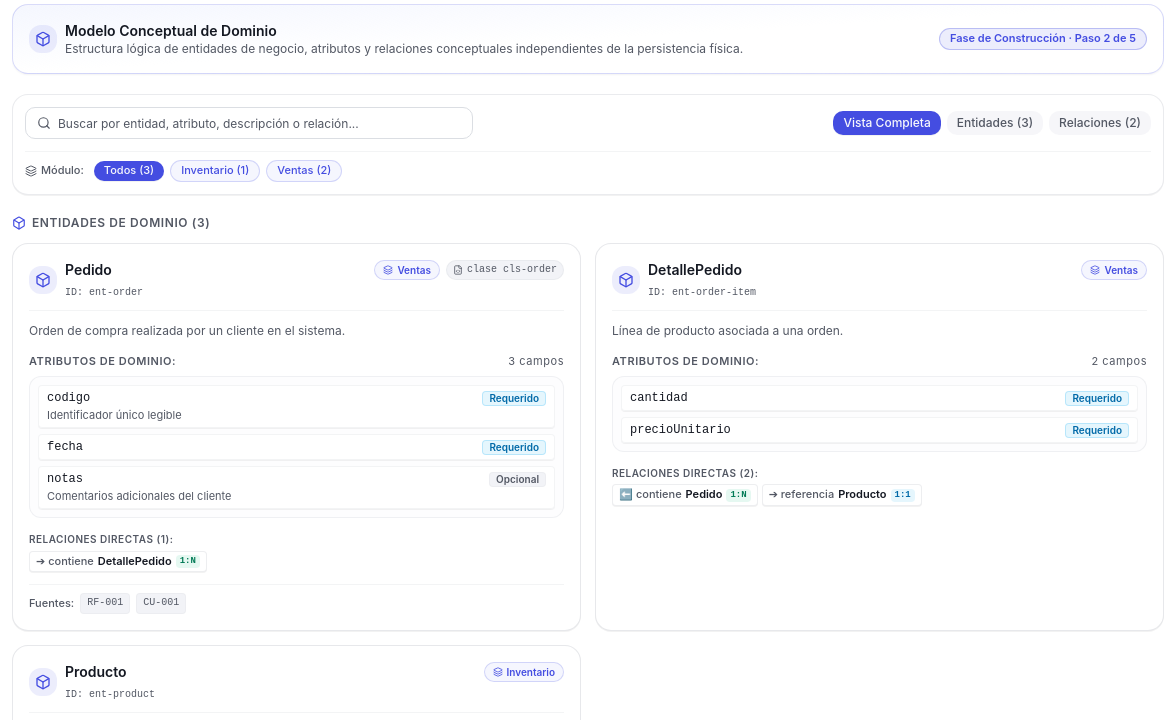
Test: ConceptualModelDetail › filters content in real-time with search input
Type "Producto" into the search field named "Buscar en el modelo conceptual" at x=249, y=123, box [25,107,473,139]
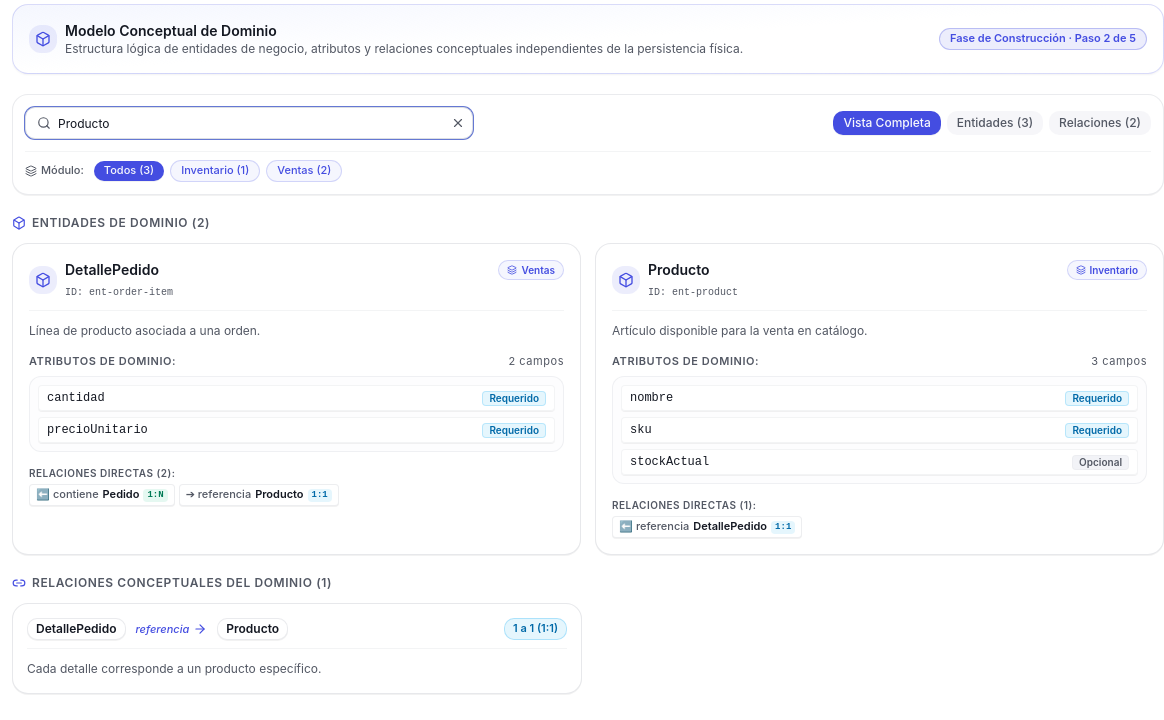
Expected: the heading "Producto" is shown, [648,261,710,278]
Result: the text "Orden de compra realizada por un cliente en el sistema." is gone
Clear search
Click the button named "Limpiar búsqueda" at x=458, y=123, box [451,116,465,130]
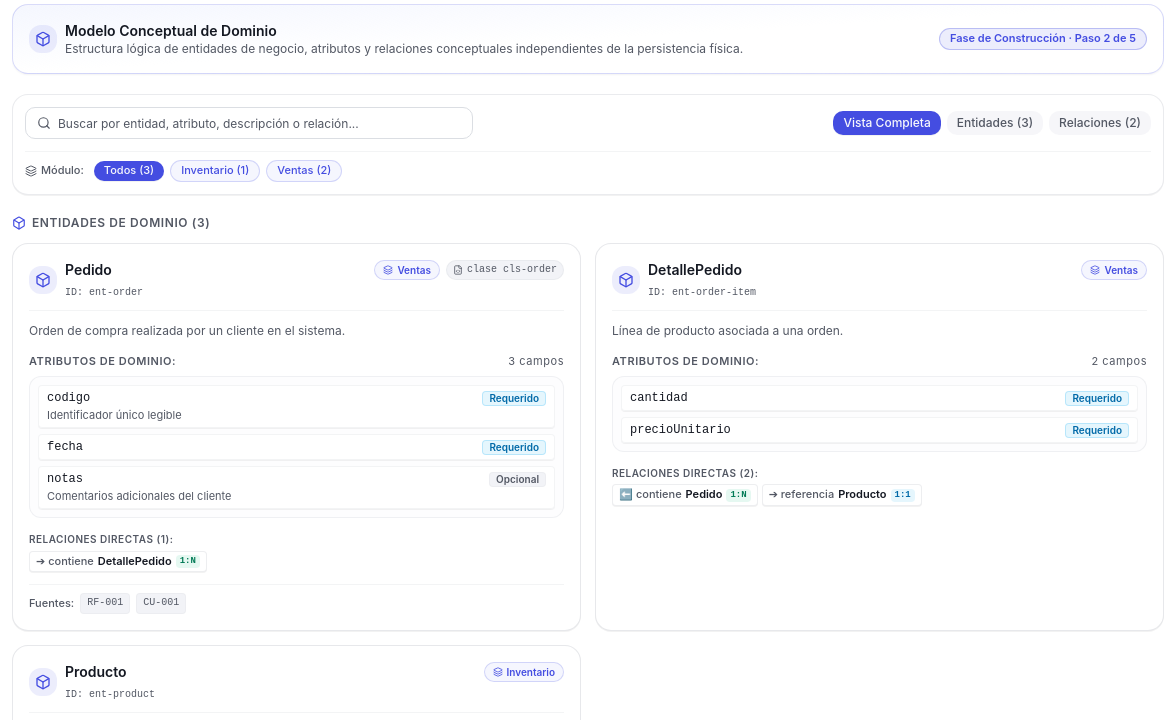
Result: the heading "Pedido" is shown at [65,261,112,278]
